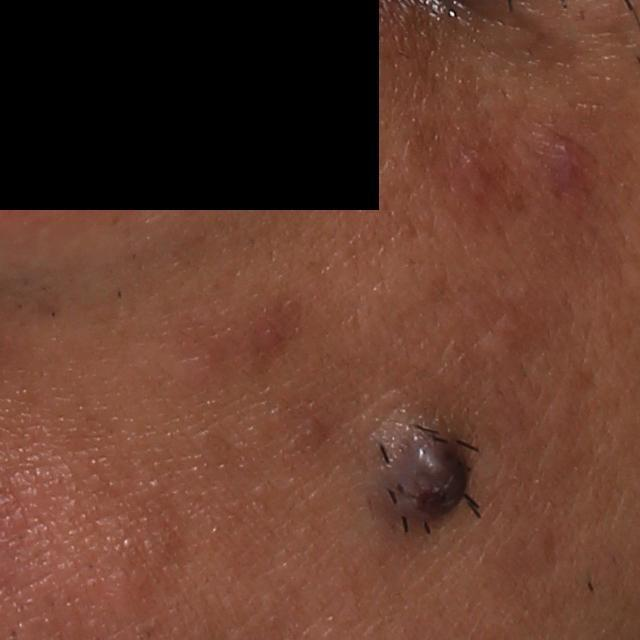nevus: (357, 400, 476, 552)
